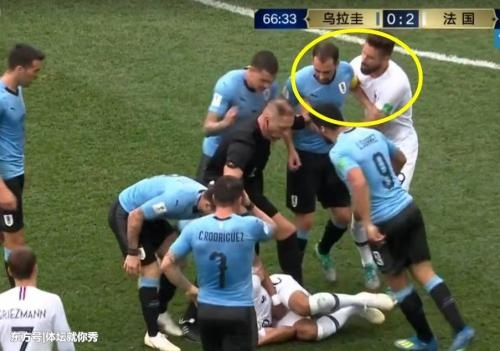falling: (206, 257, 403, 349)
